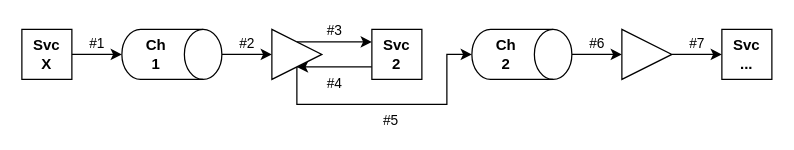
Image size: 794x150. Some labels were removed from this diagram. The centre of each missing label's shape, as x and y in pixels:
Sb 1: [296,53]
Sb 2: [646,53]
